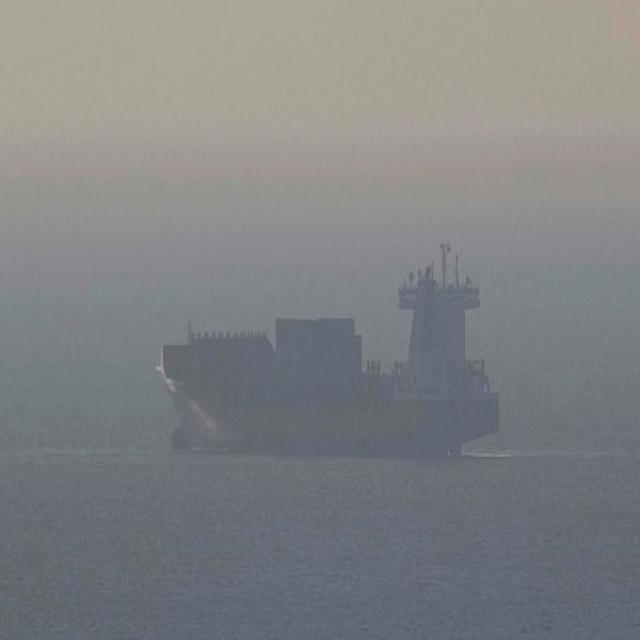cargoship: (157, 252, 498, 464)
